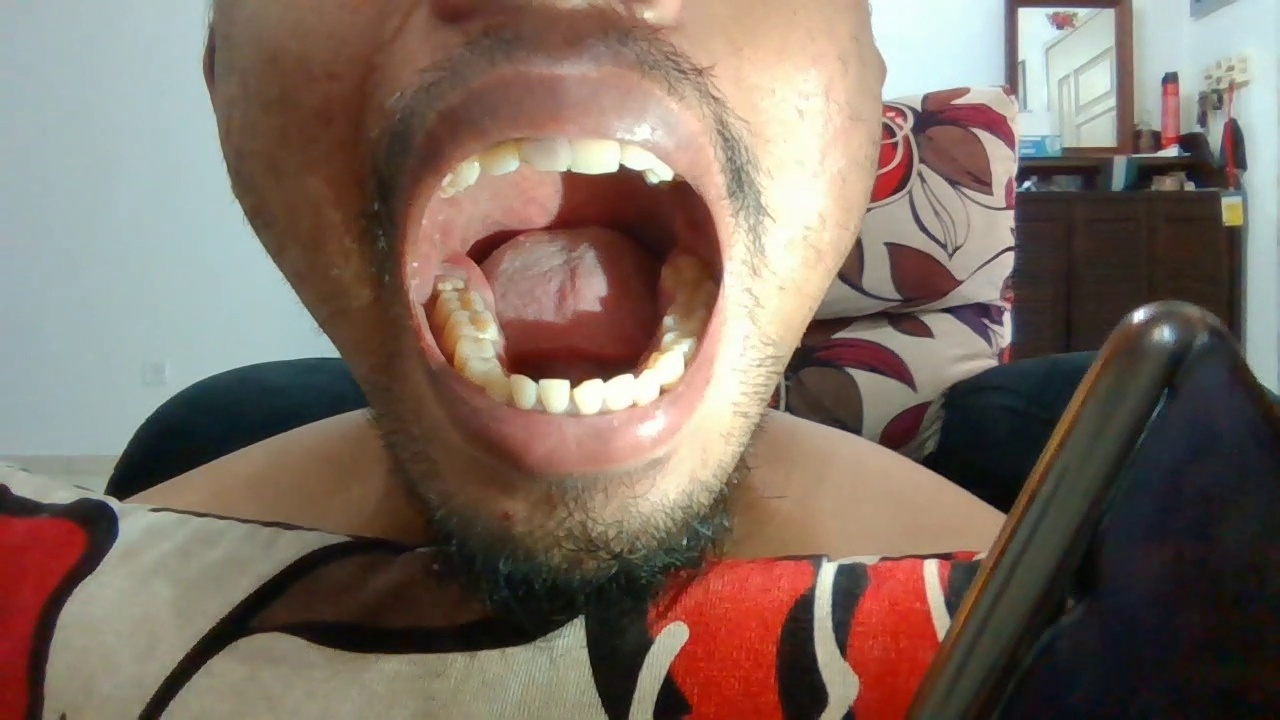1st Molar: (443, 310, 499, 337), (662, 306, 707, 331)
1st Premolar: (649, 348, 684, 386), (466, 358, 500, 383)
2nd Molar: (674, 279, 718, 304), (434, 291, 485, 312)
2nd Premolar: (455, 336, 493, 367), (661, 331, 697, 355)
3rd Molar: (663, 250, 710, 279), (435, 278, 466, 291)
Canine: (453, 156, 482, 192), (642, 158, 676, 188), (484, 365, 509, 403), (636, 368, 660, 406)
Central Incisor: (516, 137, 570, 173), (570, 138, 621, 175), (572, 378, 606, 417), (538, 377, 572, 415)
Lateral Incisor: (482, 139, 520, 175), (606, 372, 636, 413), (620, 143, 659, 171), (509, 373, 538, 410)
